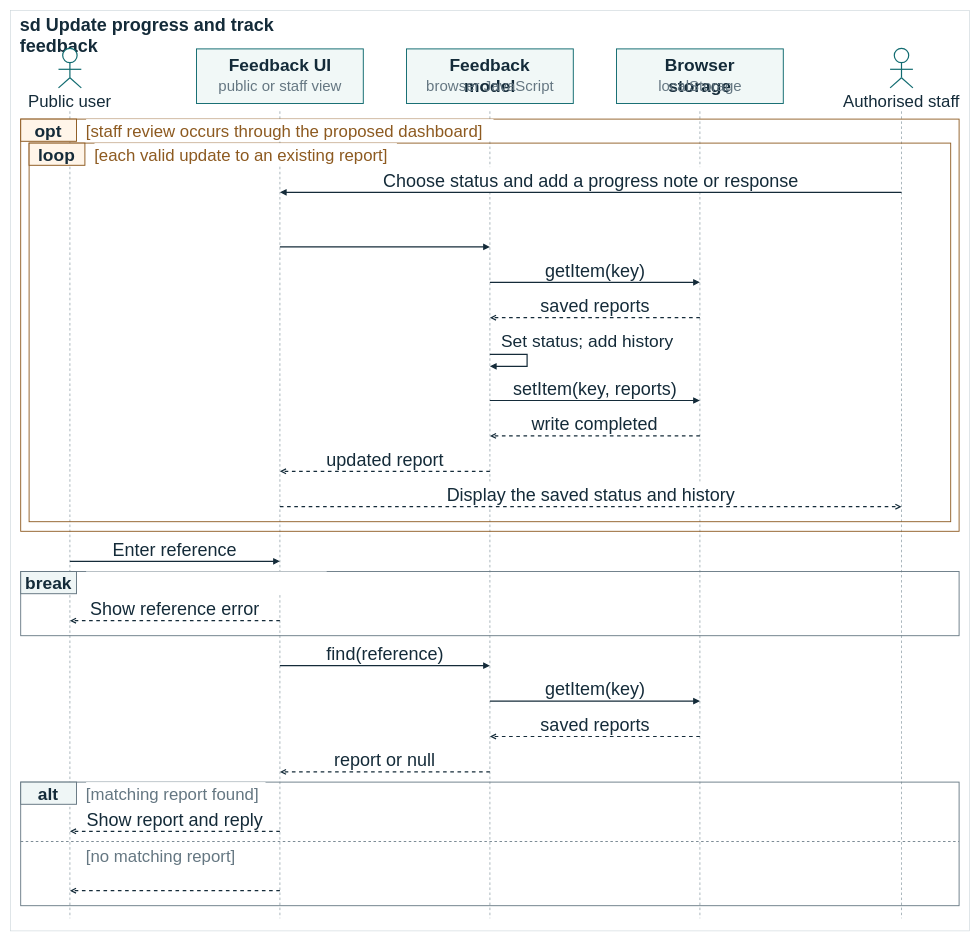
Image size: 980x941. Some labels were removed from this diagram. Here are the shapes that lost their labels. From the top down, the centre of each, then its label:
At point (385, 223): "updateStatus(reference, status, note)".
At point (206, 582): "[empty or malformed reference]".
At point (174, 876): "Show no matching report".
